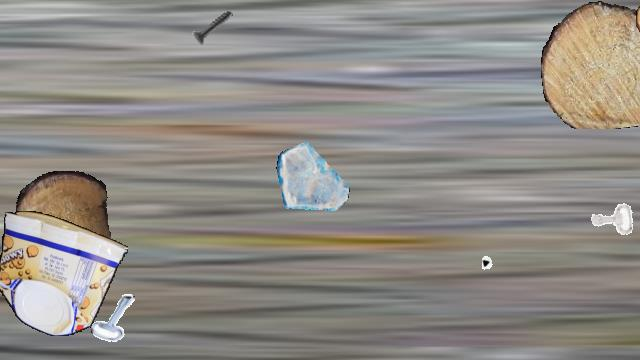glass: (276, 139, 350, 213)
metal: (482, 238, 544, 300), (187, 1, 239, 53), (585, 193, 637, 245), (90, 293, 142, 345)
plastic: (0, 211, 128, 335)
wood: (541, 1, 640, 129), (16, 171, 110, 275), (636, 1, 640, 45)
